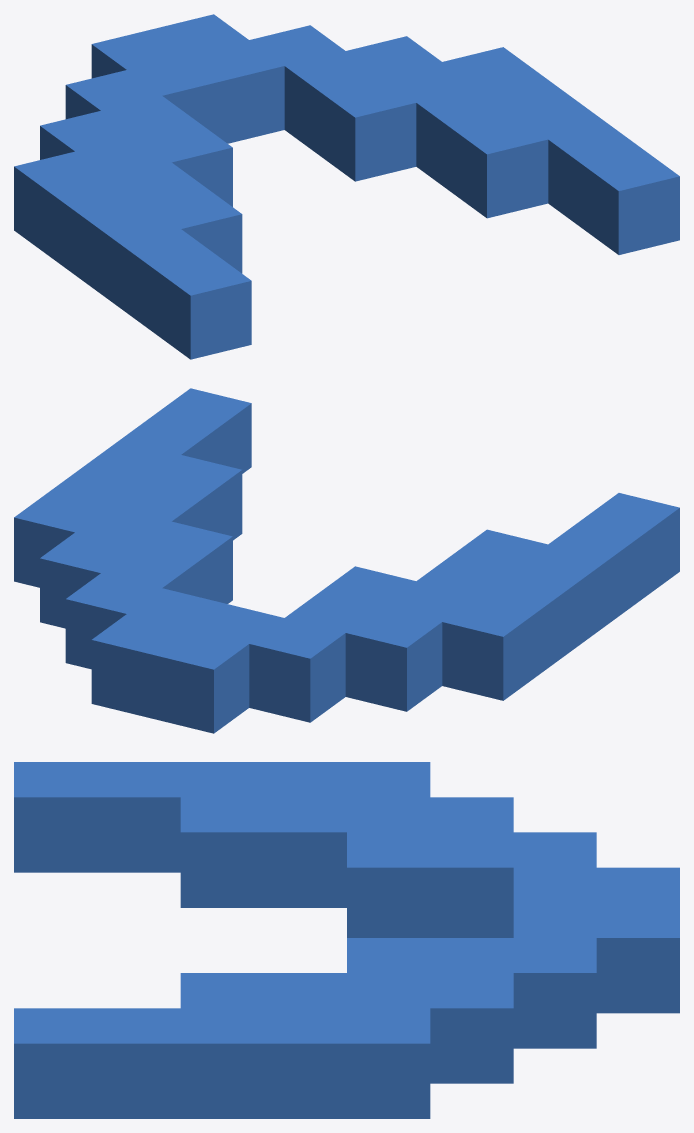
File: flèche.obj
3 views of the same model, one above another, from view 1: azimuth 30°, elevation 25°; view 2: azimuth 150°, elevation 25°; view 3: azimuth 270°, elevation 25° (orthographic). The views are drawn at different scales.
Size of the model in its own units: 0.8 by 0.1 by 0.8.
1 material, 1 textured.
